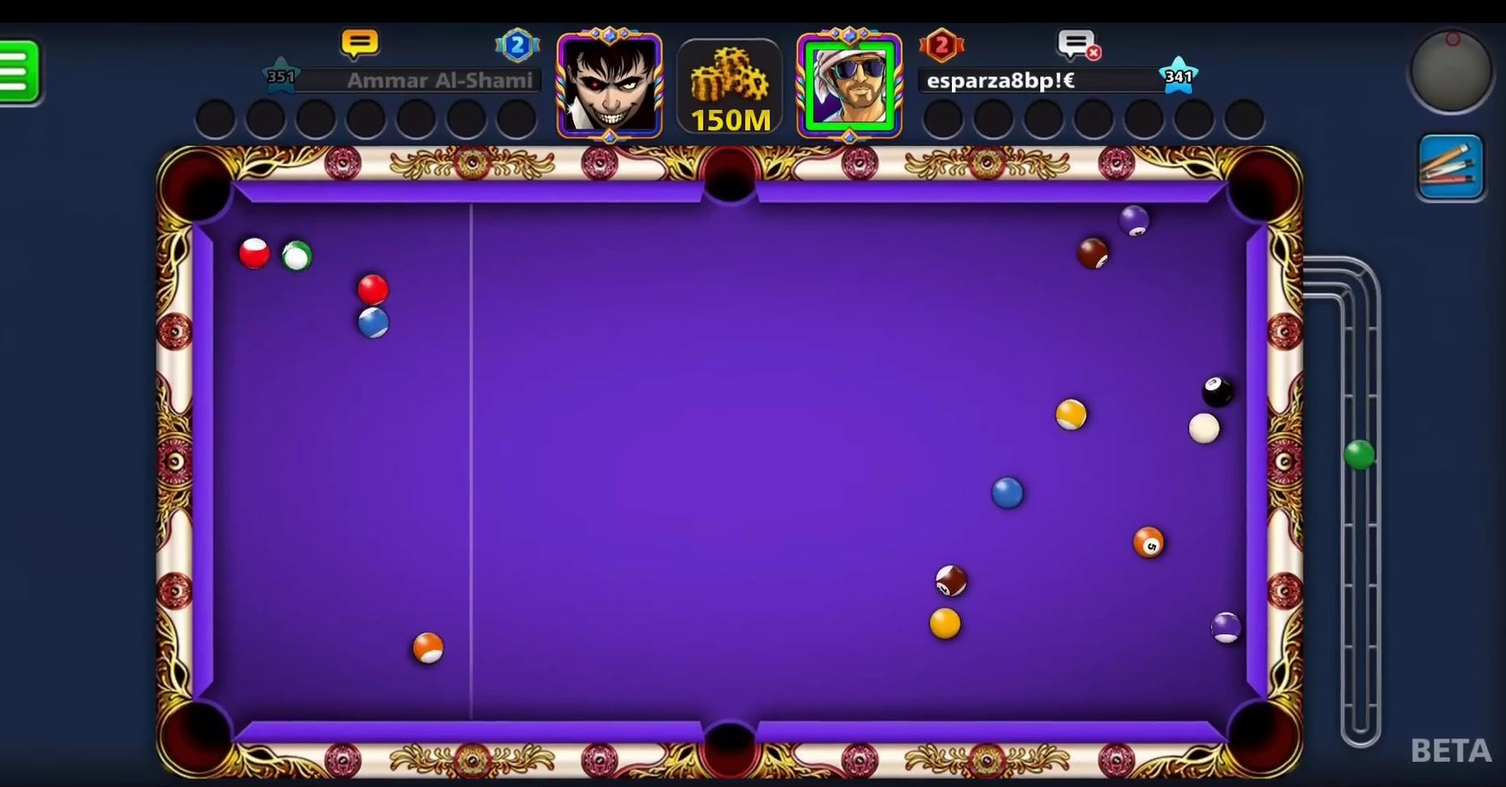Ball: (343, 305, 403, 350), (923, 601, 969, 645), (1128, 518, 1174, 562), (928, 560, 973, 603), (346, 270, 398, 307), (1069, 235, 1118, 274), (1197, 370, 1242, 411), (404, 629, 449, 669), (275, 236, 321, 274), (1110, 202, 1157, 239), (231, 233, 275, 271), (1205, 606, 1245, 647), (1052, 396, 1090, 431), (990, 474, 1026, 510)
Hole: (149, 134, 254, 238), (143, 686, 250, 786), (1215, 687, 1308, 785), (1214, 136, 1303, 235), (684, 700, 773, 785), (687, 138, 771, 222)
Play_Area: (210, 201, 1244, 720)
Spin: (1404, 25, 1503, 123)
White: (1185, 411, 1223, 446)
